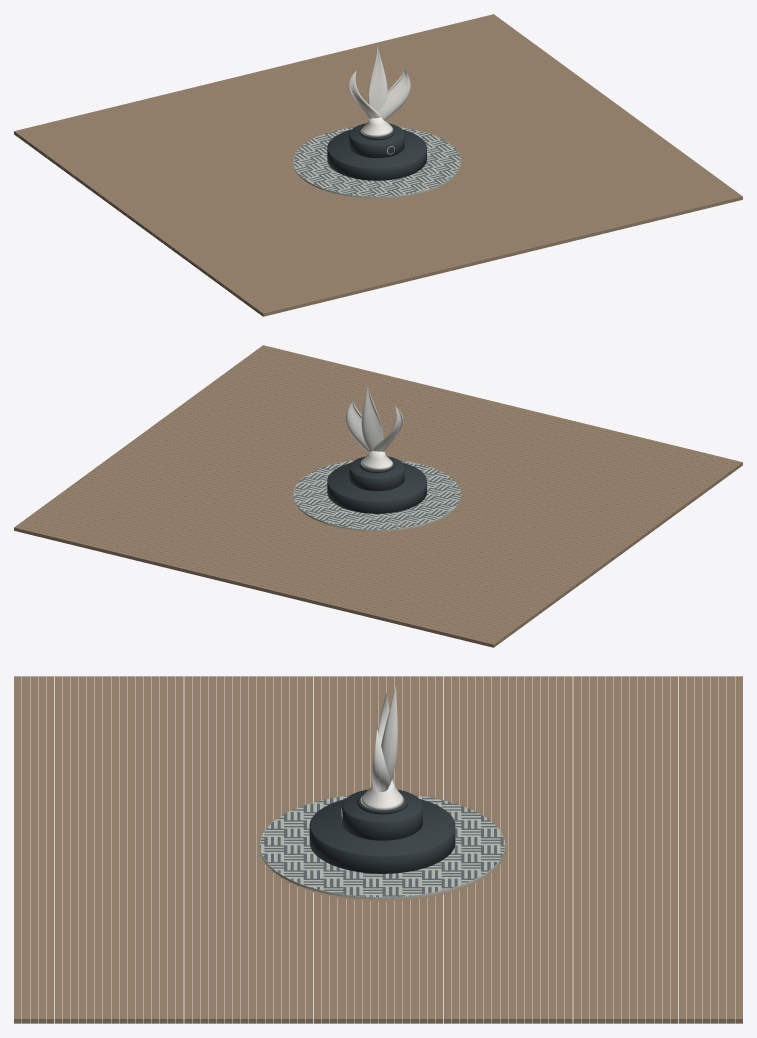
File: sculpture.glb
3 views of the same model, one above another, from view 1: azimuth 30°, elevation 25°; view 2: azimuth 150°, elevation 25°; view 3: azimuth 270°, elevation 25° (orthographic). The views are drawn at different scales.
Visible parts, largest first — view 1: 图05 · 交错条纹圆形铺地与木板, 图05 · 两级墨石基座及徽章, 图05 · 三翼与尖脊; view 2: 图05 · 交错条纹圆形铺地与木板, 图05 · 两级墨石基座及徽章, 图05 · 三翼与尖脊; view 3: 图05 · 交错条纹圆形铺地与木板, 图05 · 两级墨石基座及徽章, 图05 · 三翼与尖脊.
Part boxes in pixels (bbox=[...]): 图05 · 交错条纹圆形铺地与木板: bbox=[14, 14, 742, 316]; 图05 · 两级墨石基座及徽章: bbox=[327, 123, 426, 180]; 图05 · 三翼与尖脊: bbox=[349, 46, 410, 136]; 图05 · 交错条纹圆形铺地与木板: bbox=[14, 345, 742, 647]; 图05 · 两级墨石基座及徽章: bbox=[327, 456, 426, 513]; 图05 · 三翼与尖脊: bbox=[346, 386, 403, 469]; 图05 · 交错条纹圆形铺地与木板: bbox=[14, 676, 742, 1023]; 图05 · 两级墨石基座及徽章: bbox=[309, 789, 455, 873]; 图05 · 三翼与尖脊: bbox=[360, 686, 404, 810].
Size of the model in its own units: 14 by 3.23 by 12.59.
